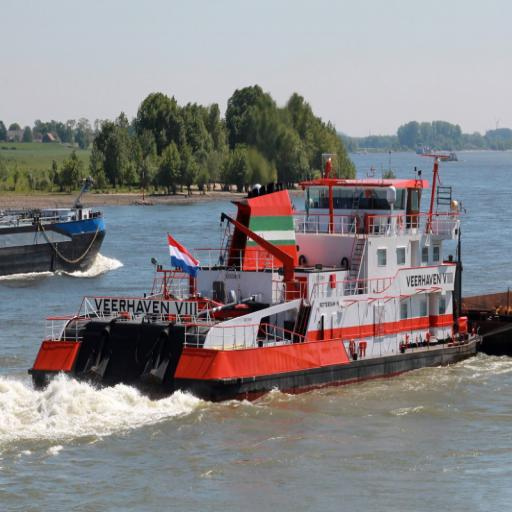tugboat: (26, 175, 486, 416)
